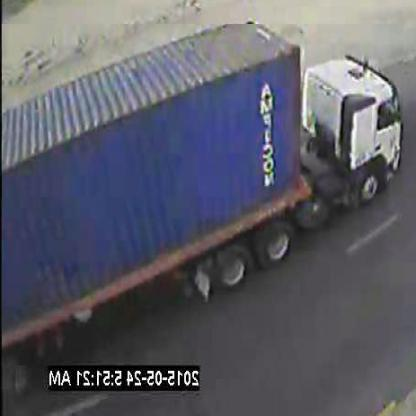container: (2, 25, 404, 368)
